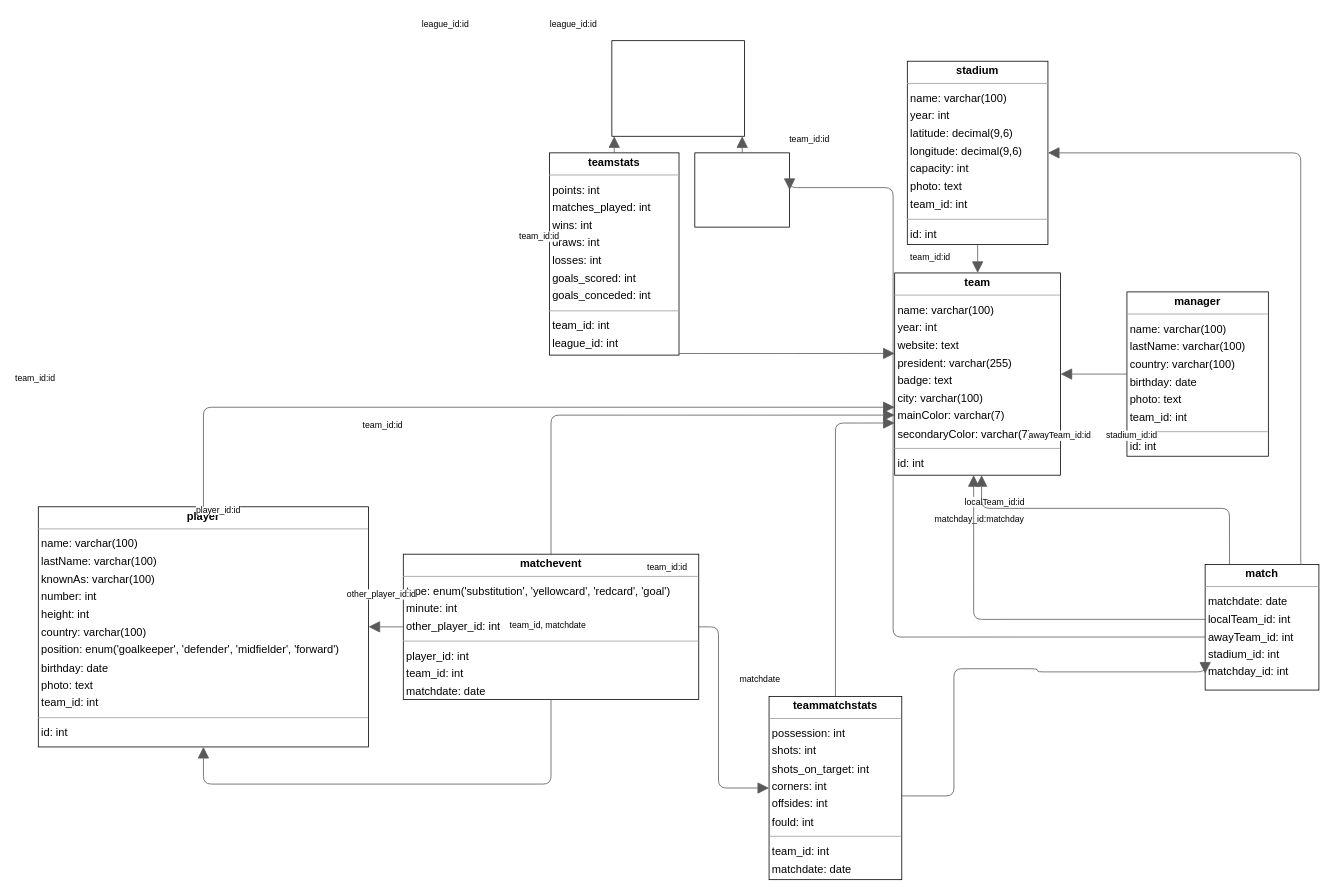
This 1333x893 diagram has some shape labels left out. The shapes that lost their labels are listed below. From the top down, each one's box as (x1, y1, x2, y2) in pixels, then its label:
(611, 40, 745, 136): league country: varchar(100) season: int id: int
(694, 152, 790, 227): matchday matchday: int league_id: int
